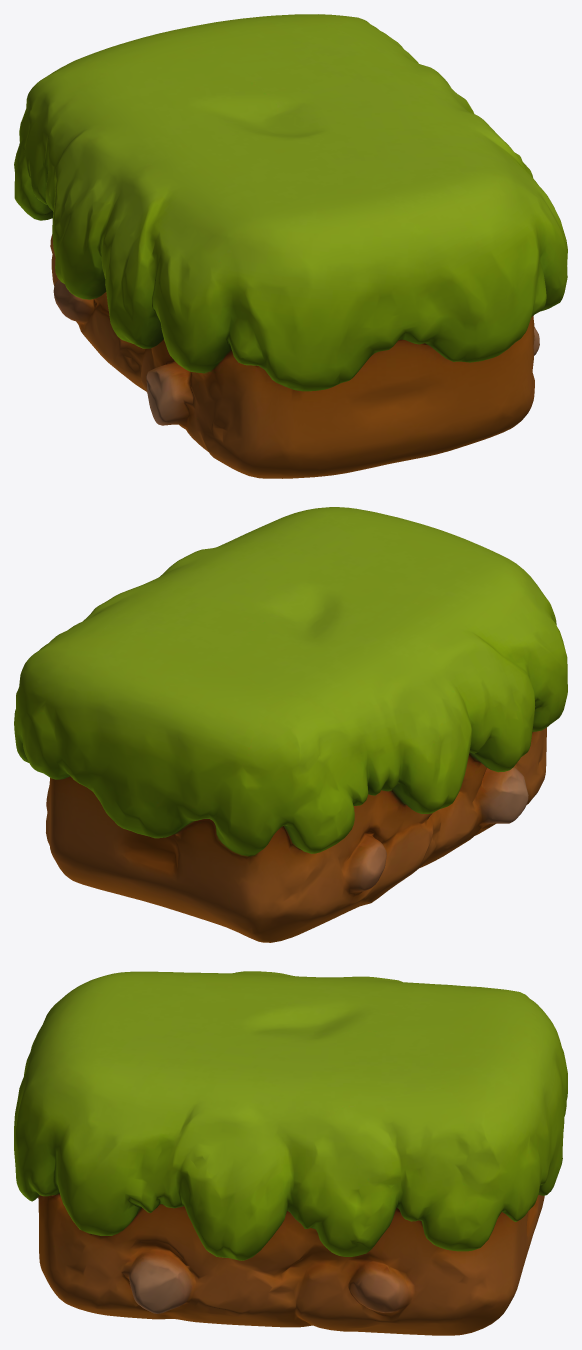
The model's file is island.glb.
The picture shows the model from 3 angles, top to bottom: view 1: azimuth 30°, elevation 25°; view 2: azimuth 150°, elevation 25°; view 3: azimuth 270°, elevation 25°; orthographic projection. The views are drawn at different scales.
Visible parts, largest first — view 1: tripo_node_d7997fec-bcf2-4931-8106-935b394fda84; view 2: tripo_node_d7997fec-bcf2-4931-8106-935b394fda84; view 3: tripo_node_d7997fec-bcf2-4931-8106-935b394fda84.
Boxes of the visible parts, box(x1,y1,x2,y2) form: tripo_node_d7997fec-bcf2-4931-8106-935b394fda84: box(14, 14, 567, 478); tripo_node_d7997fec-bcf2-4931-8106-935b394fda84: box(14, 507, 567, 942); tripo_node_d7997fec-bcf2-4931-8106-935b394fda84: box(14, 971, 567, 1335).
Bounding box in the file's own units: 0.8387 × 0.5138 × 1.02.
Materials: 1 (1 with a texture image).
